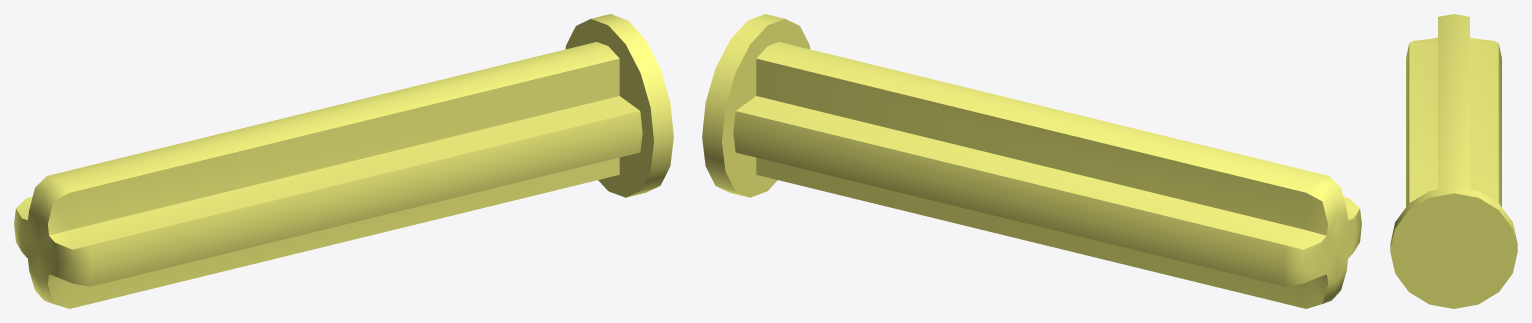
3 views of the same model, side by side, from view 1: azimuth 30°, elevation 25°; view 2: azimuth 150°, elevation 25°; view 3: azimuth 270°, elevation 25° (orthographic). The views are drawn at different scales.
Visible parts, largest first — view 1: 24316.dat; view 2: 24316.dat; view 3: 24316.dat.
Part boxes in pixels (box(x1,y1,x2,y2)): 24316.dat: box(14, 14, 673, 308); 24316.dat: box(702, 14, 1361, 308); 24316.dat: box(1390, 14, 1517, 308).
Bounding box in the file's own units: 0.0238 × 0.0064 × 0.0064.
